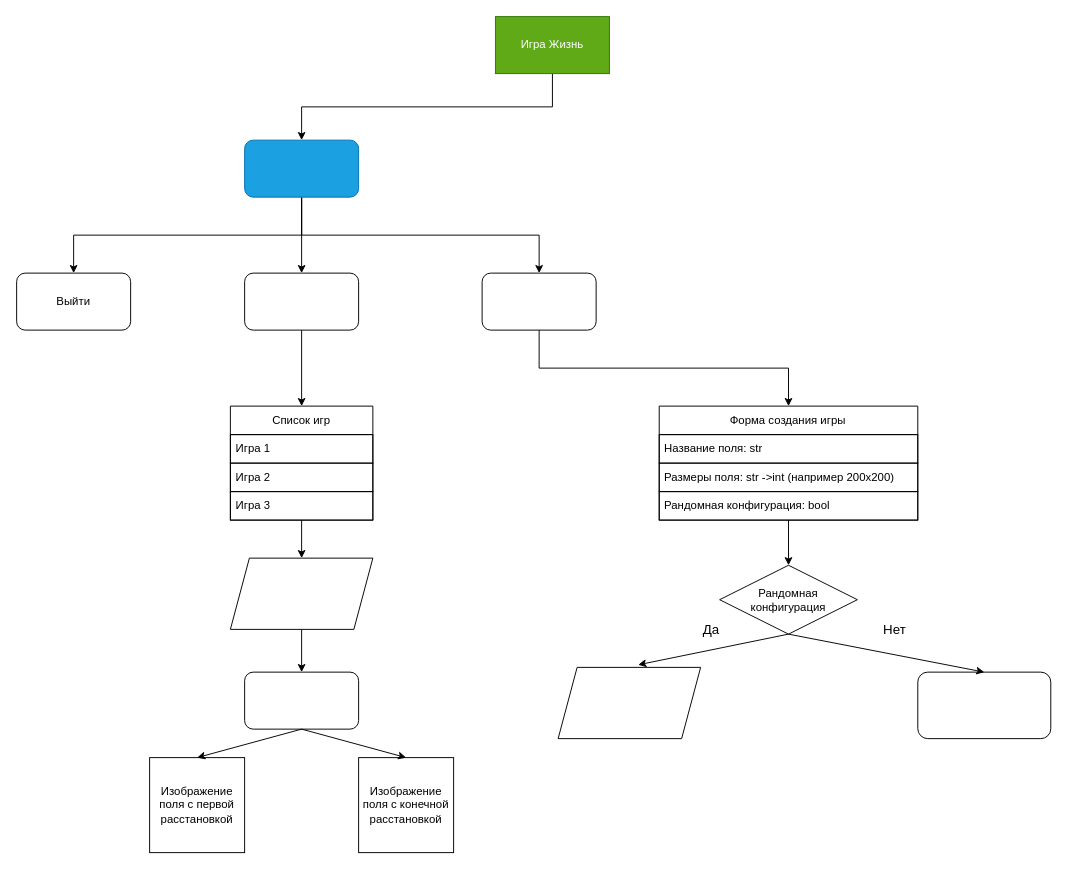
This 1068x869 diagram has some shape labels left out. The shapes that lost their labels are listed below. From the top down, each one's centre as x and y in pixels, then its label:
At point 301,168: "Главное меню".
At point 301,301: "Статистика".
At point 538,301: "Начать новую игру".
At point 301,593: "Нажатие на одну из игр".
At point 301,700: "Страница игры <номер игры>".
At point 629,702: "Строится ранд конфигурация поля".
At point 984,705: "Конструктор расстановки поля".
